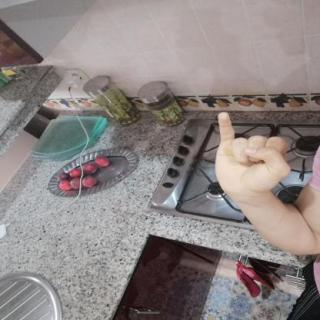MEEM: (204, 103, 300, 202)
